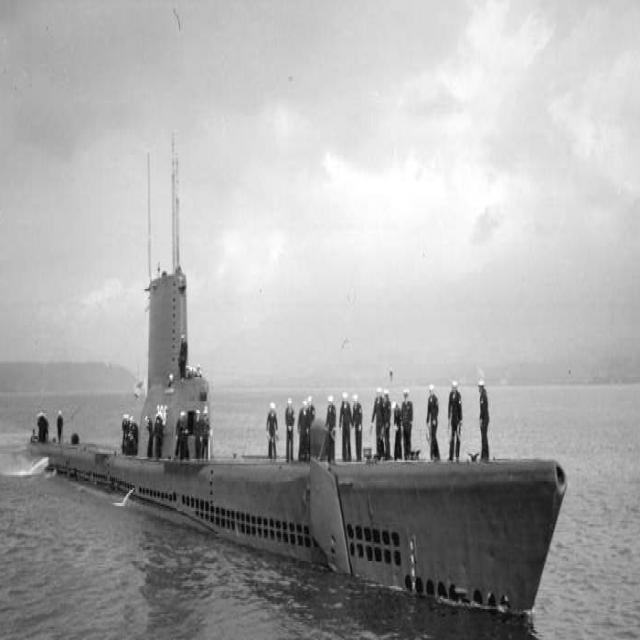submarine: (28, 264, 568, 618)
